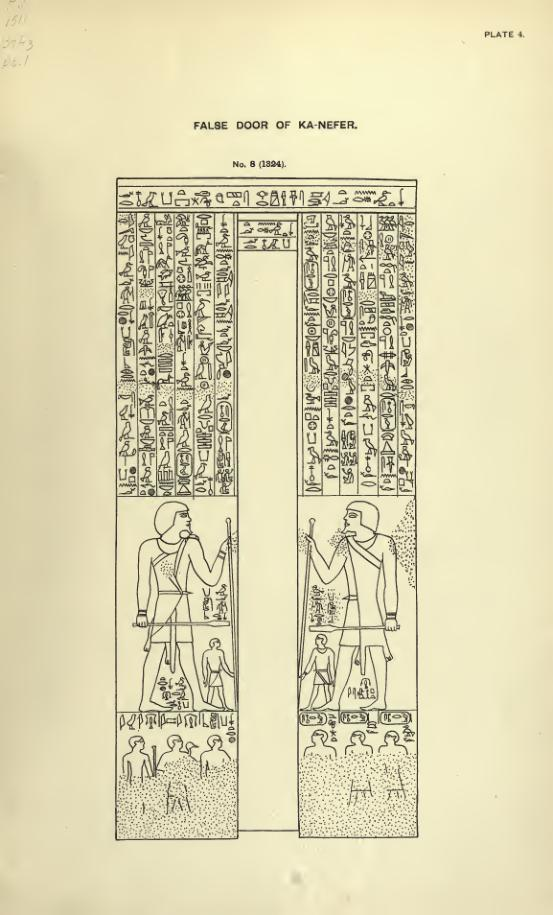circle: (378, 398, 398, 433), (302, 260, 322, 292), (339, 287, 357, 320), (216, 401, 233, 435), (299, 711, 329, 727), (379, 711, 413, 725), (340, 710, 369, 726), (176, 452, 192, 479)
